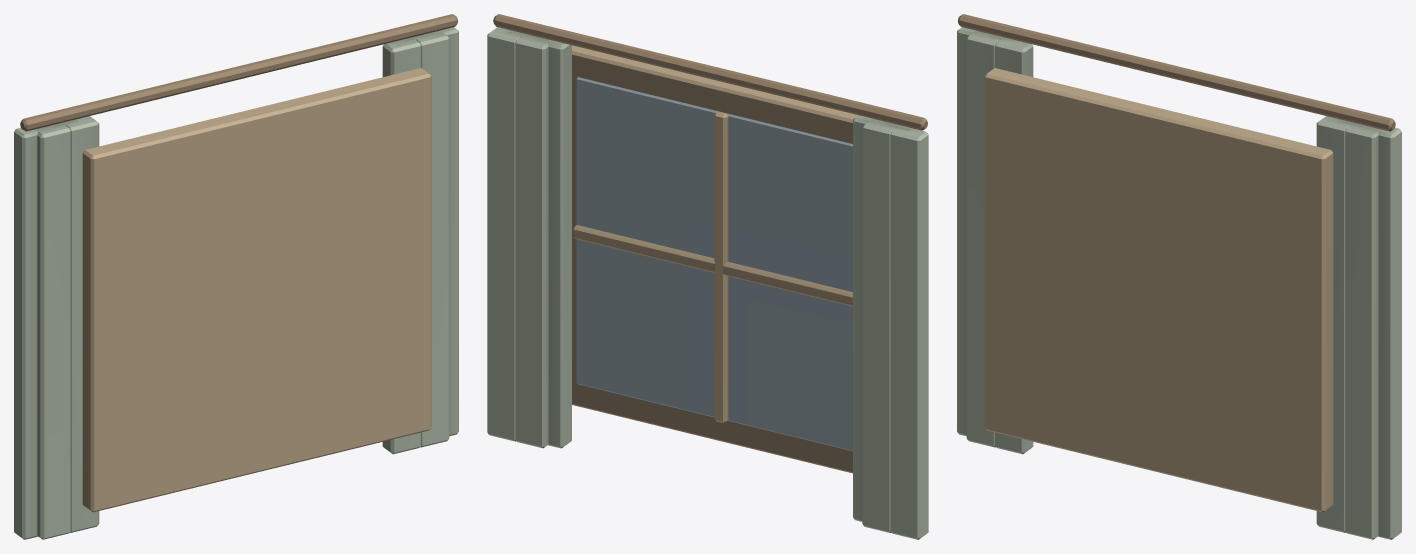
File: furn_curtain_window__sage.glb
The picture shows the model from 3 angles, left to right: view 1: azimuth 30°, elevation 25°; view 2: azimuth 150°, elevation 25°; view 3: azimuth 330°, elevation 25°; orthographic projection.
Size of the model in its own units: 1.41 by 1.29 by 0.175.
